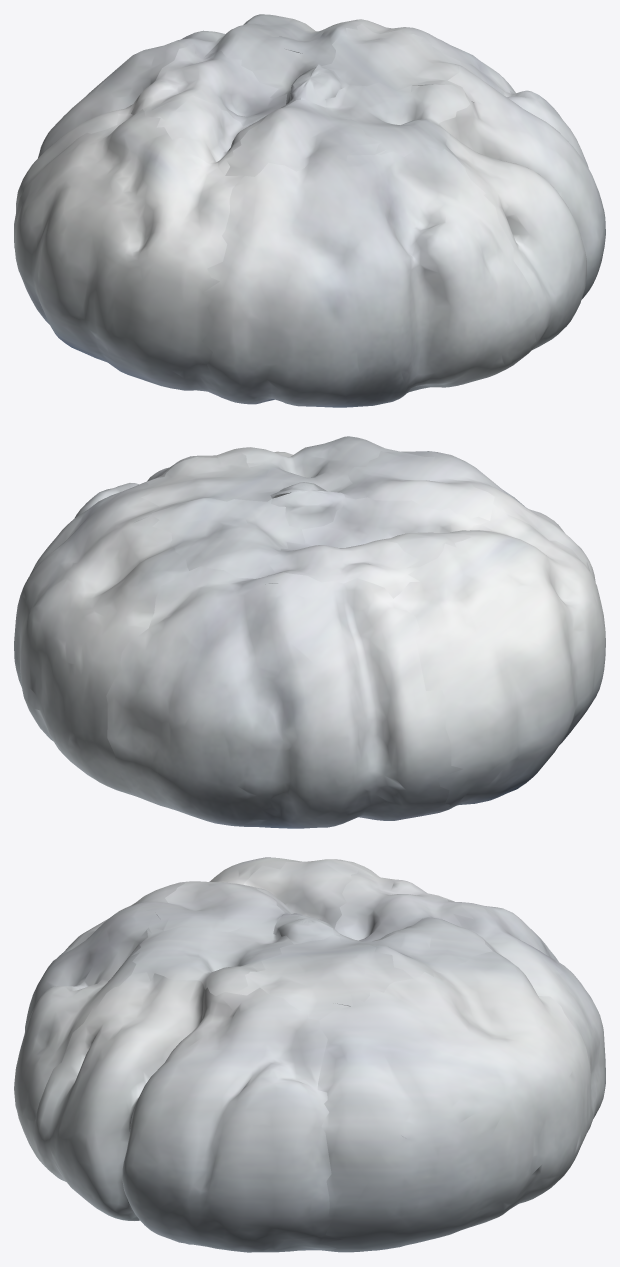
Rendered from 雲三版.fbx.
3 renders of one model, top to bottom at view 1: azimuth 30°, elevation 25°; view 2: azimuth 150°, elevation 25°; view 3: azimuth 270°, elevation 25°, orthographic.
Visible parts, largest first — view 1: Mesh_0; view 2: Mesh_0; view 3: Mesh_0.
Boxes of the visible parts, x1=… form: Mesh_0: x1=14, y1=14, x2=605, y2=407; Mesh_0: x1=14, y1=436, x2=605, y2=828; Mesh_0: x1=14, y1=857, x2=605, y2=1252.
Size of the model in its own units: 100 by 99.68 by 46.18.
Materials: 1 (1 with a texture image).
